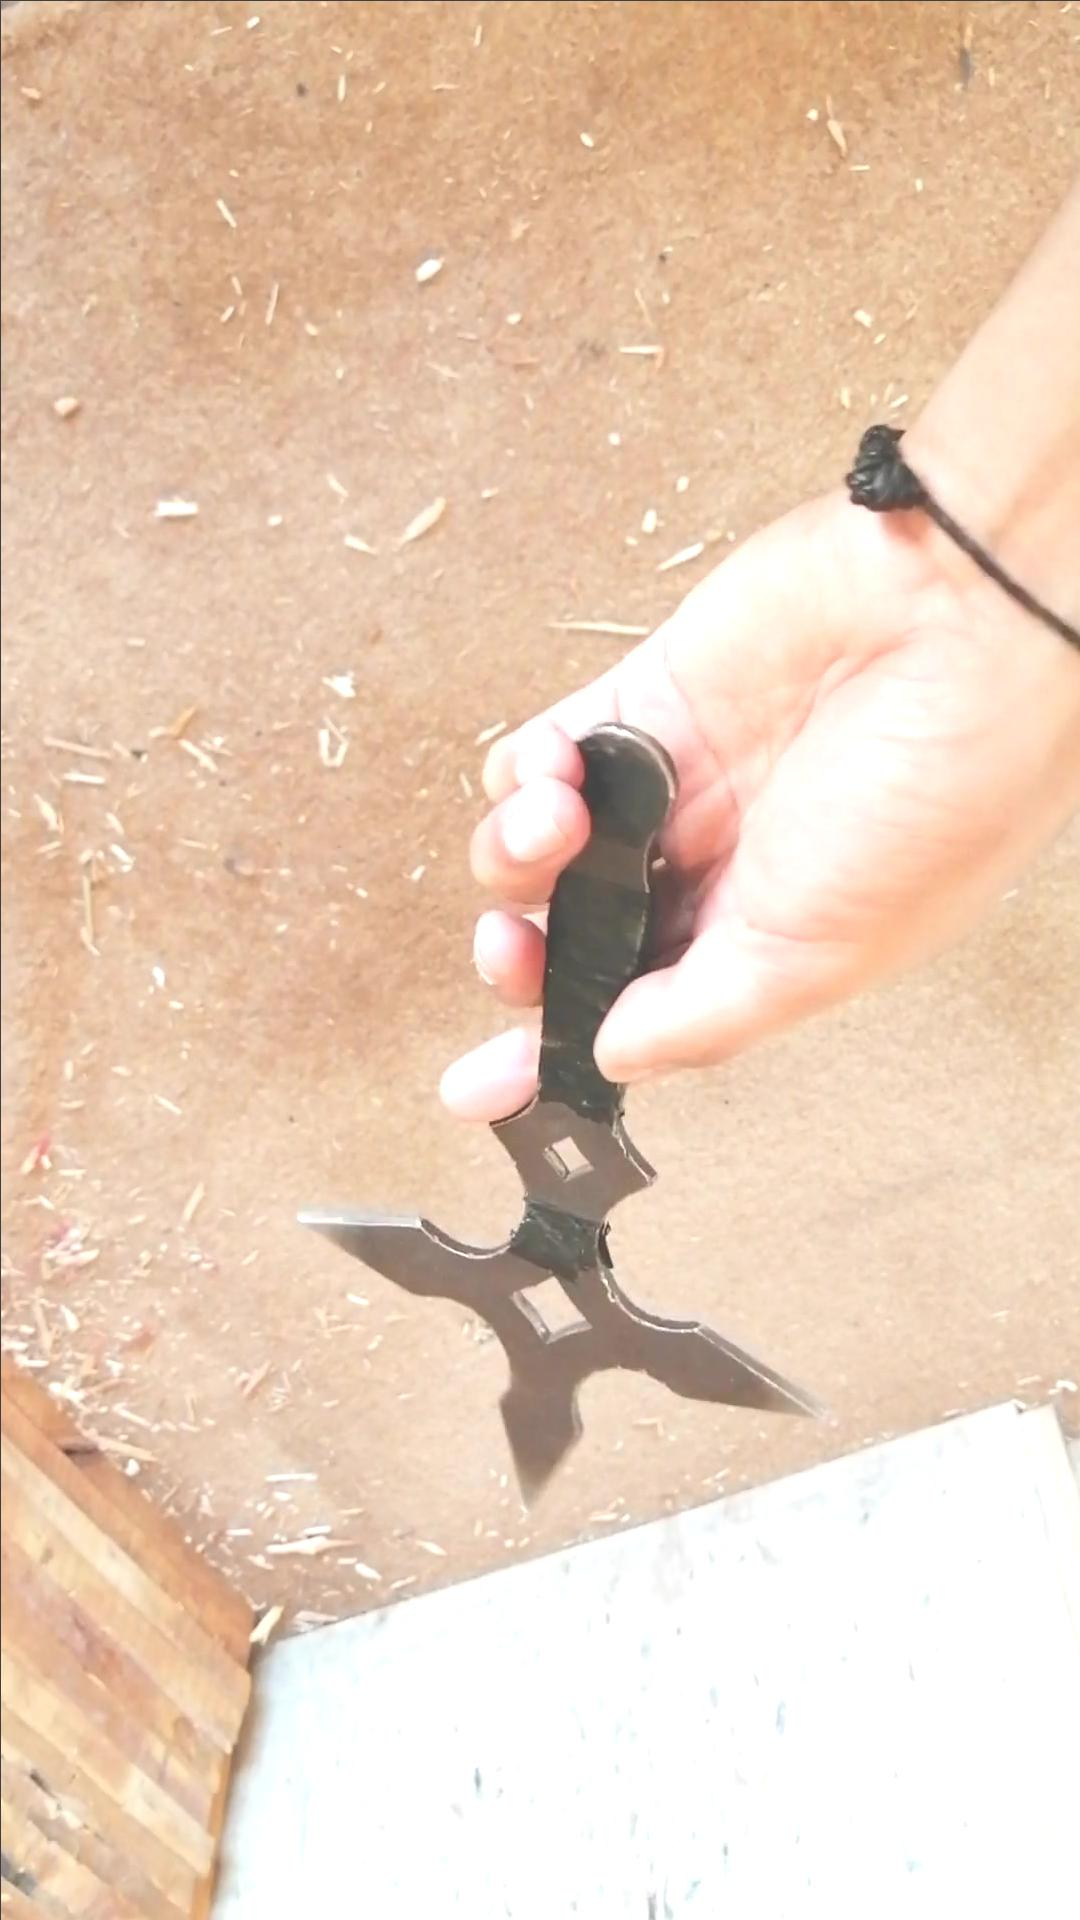Hand Axe: (297, 712, 815, 1516)
